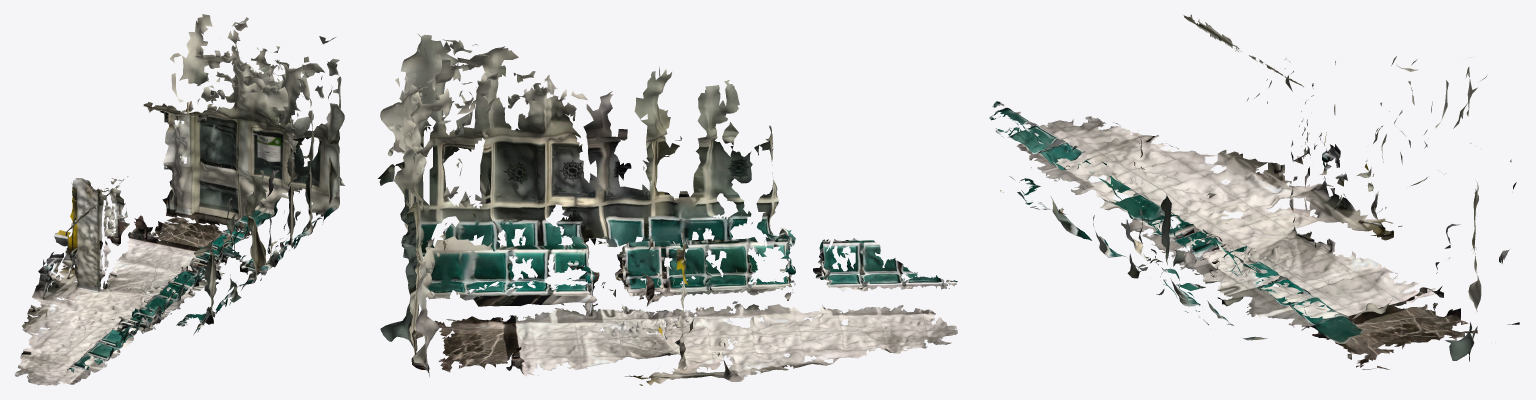
File: 140528-PoliPojok-tex.glb
3 renders of one model, left to right at view 1: azimuth 30°, elevation 25°; view 2: azimuth 150°, elevation 25°; view 3: azimuth 270°, elevation 25°, orthographic. The views are drawn at different scales.
Parts seen in each view (by area): view 1: Node; view 2: Node; view 3: Node.
Boxes of the visible parts, <box> form: Node: <box>14,14,344,385</box>; Node: <box>378,33,957,385</box>; Node: <box>989,14,1519,369</box>.
Size of the model in its own units: 7.52 by 4.2 by 5.76.
Materials: 9 (9 with a texture image).
